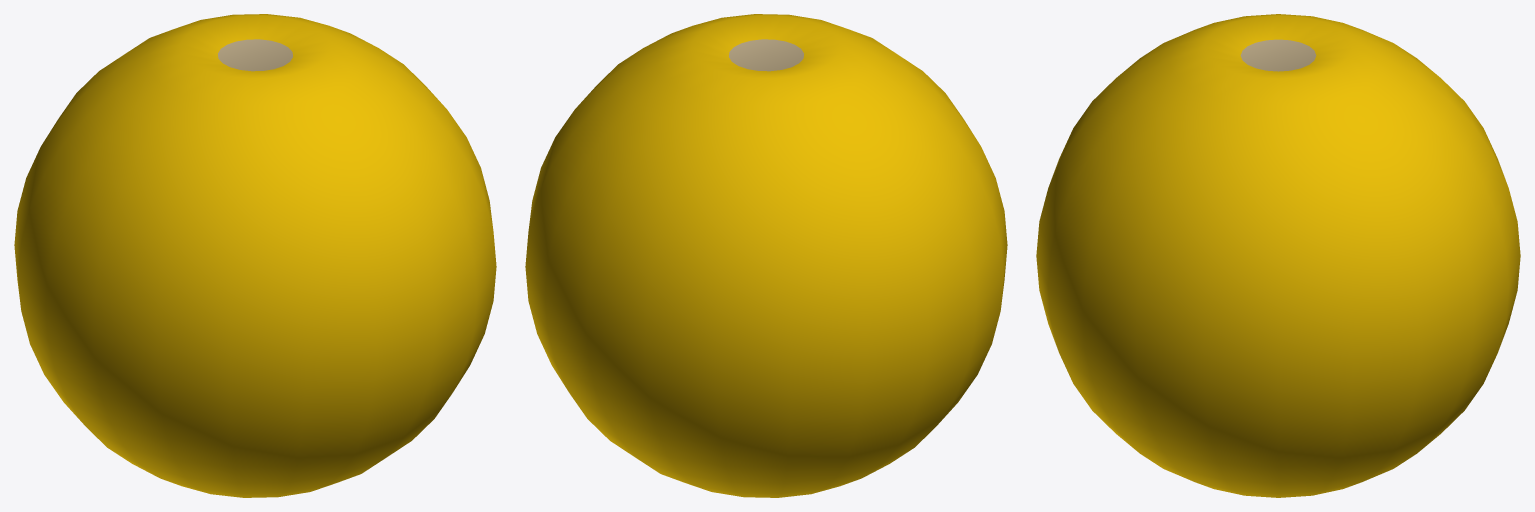
File: grapefruit.fbx
The picture shows the model from 3 angles, left to right: view 1: azimuth 30°, elevation 25°; view 2: azimuth 150°, elevation 25°; view 3: azimuth 270°, elevation 25°; orthographic projection.
Parts seen in each view (by area): view 1: pSphere1; view 2: pSphere1; view 3: pSphere1.
Part boxes in pixels (x1,y1,x2,y2): pSphere1: [14, 14, 496, 497]; pSphere1: [525, 14, 1007, 497]; pSphere1: [1036, 14, 1520, 497].
Size of the model in its own units: 3.8 by 3.71 by 3.8.
